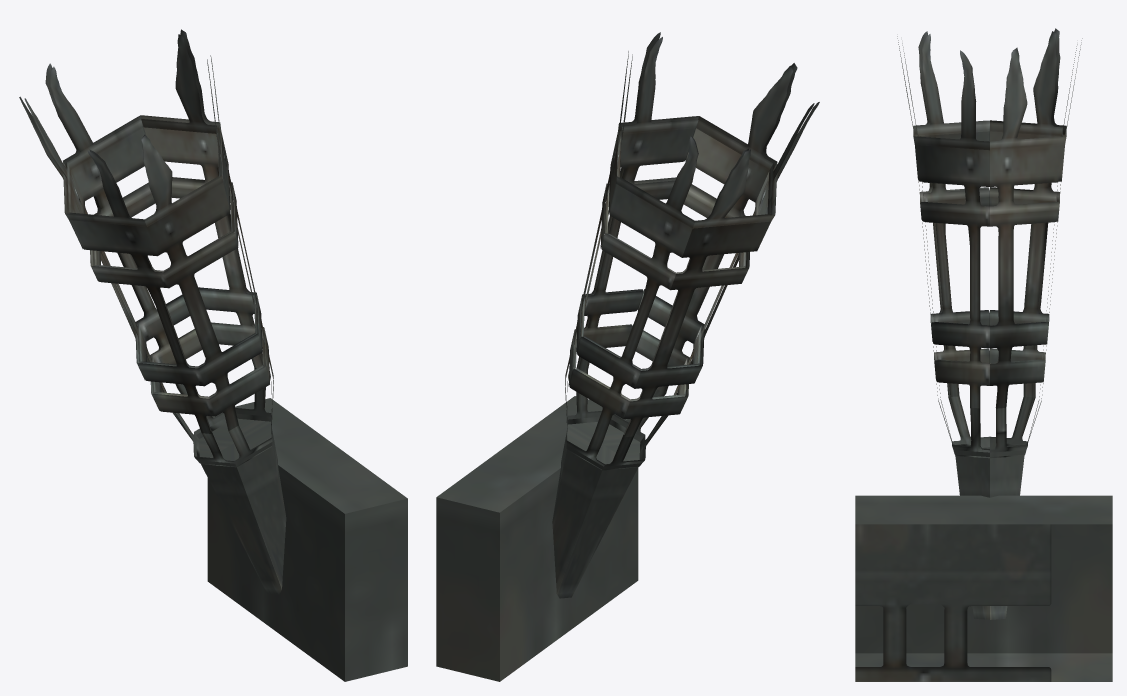
File: 2_YiZhan_HuoJu_02_01.FBX
3 renders of one model, left to right at view 1: azimuth 30°, elevation 25°; view 2: azimuth 150°, elevation 25°; view 3: azimuth 270°, elevation 25°, orthographic. The views are drawn at different scales.
Visible parts, largest first — view 1: 2_YiZhan_HuoJu_02_01, 2_YiZhan_HuoJu_02_02; view 2: 2_YiZhan_HuoJu_02_01, 2_YiZhan_HuoJu_02_02; view 3: 2_YiZhan_HuoJu_02_02, 2_YiZhan_HuoJu_02_01.
Boxes of the visible parts, x1,y1,x2,y2 form: 2_YiZhan_HuoJu_02_01: [19, 29, 286, 594]; 2_YiZhan_HuoJu_02_02: [207, 398, 407, 681]; 2_YiZhan_HuoJu_02_01: [552, 32, 819, 598]; 2_YiZhan_HuoJu_02_02: [436, 396, 638, 681]; 2_YiZhan_HuoJu_02_02: [855, 495, 1112, 681]; 2_YiZhan_HuoJu_02_01: [897, 28, 1082, 619].
Size of the model in its own units: 115 by 215 by 86.05.
